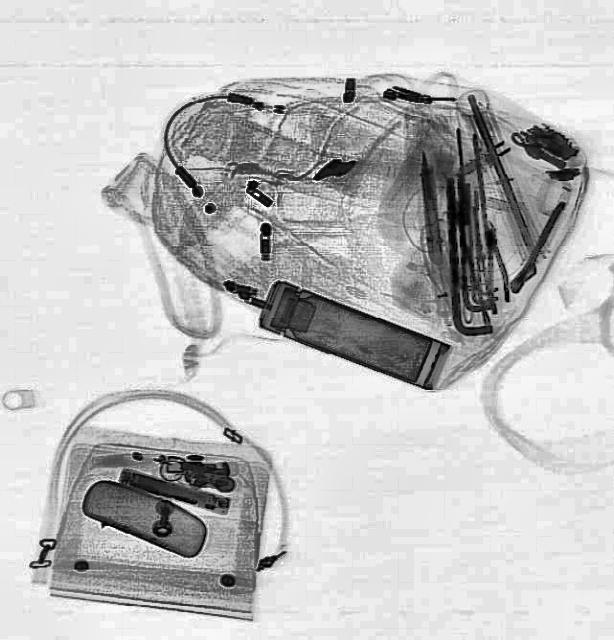Pliers: (475, 215, 511, 315)
Wrench: (503, 196, 571, 296)
